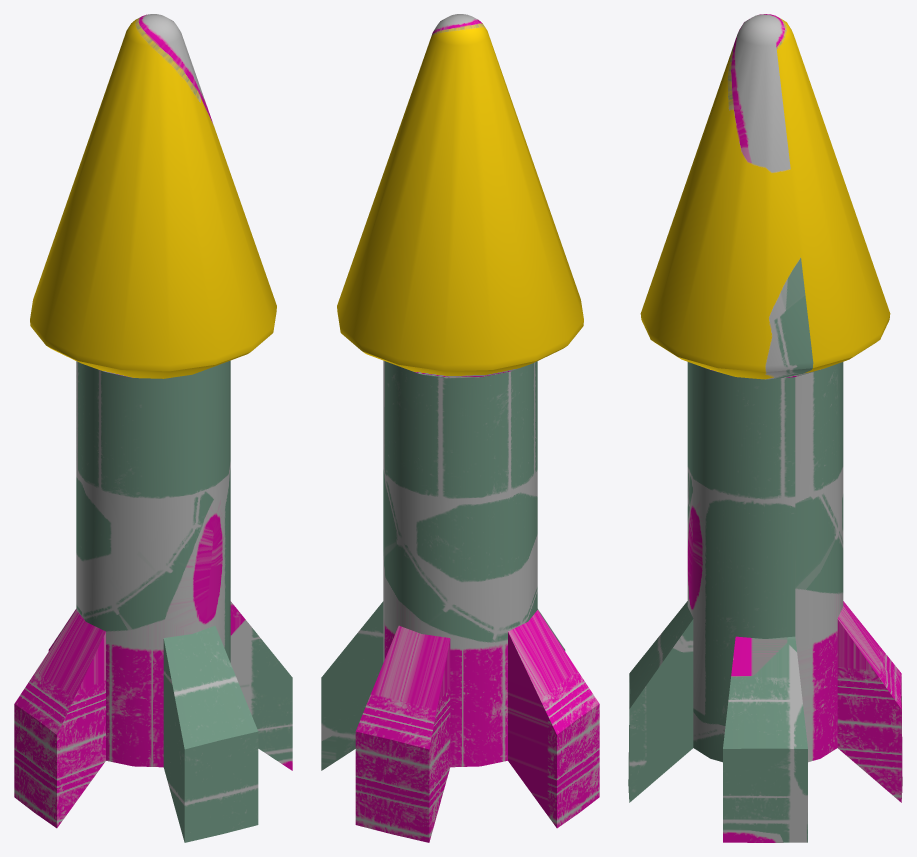
File: CoheteGunVolt.fbx
3 views of the same model, side by side, from view 1: azimuth 30°, elevation 25°; view 2: azimuth 150°, elevation 25°; view 3: azimuth 270°, elevation 25° (orthographic).
Visible parts, largest first — view 1: Circle; view 2: Circle; view 3: Circle.
Part boxes in pixels (x1=…): Circle: x1=14, y1=14, x2=292, y2=842; Circle: x1=321, y1=14, x2=599, y2=842; Circle: x1=628, y1=14, x2=902, y2=842.
Size of the model in its own units: 328 by 1014 by 328.
